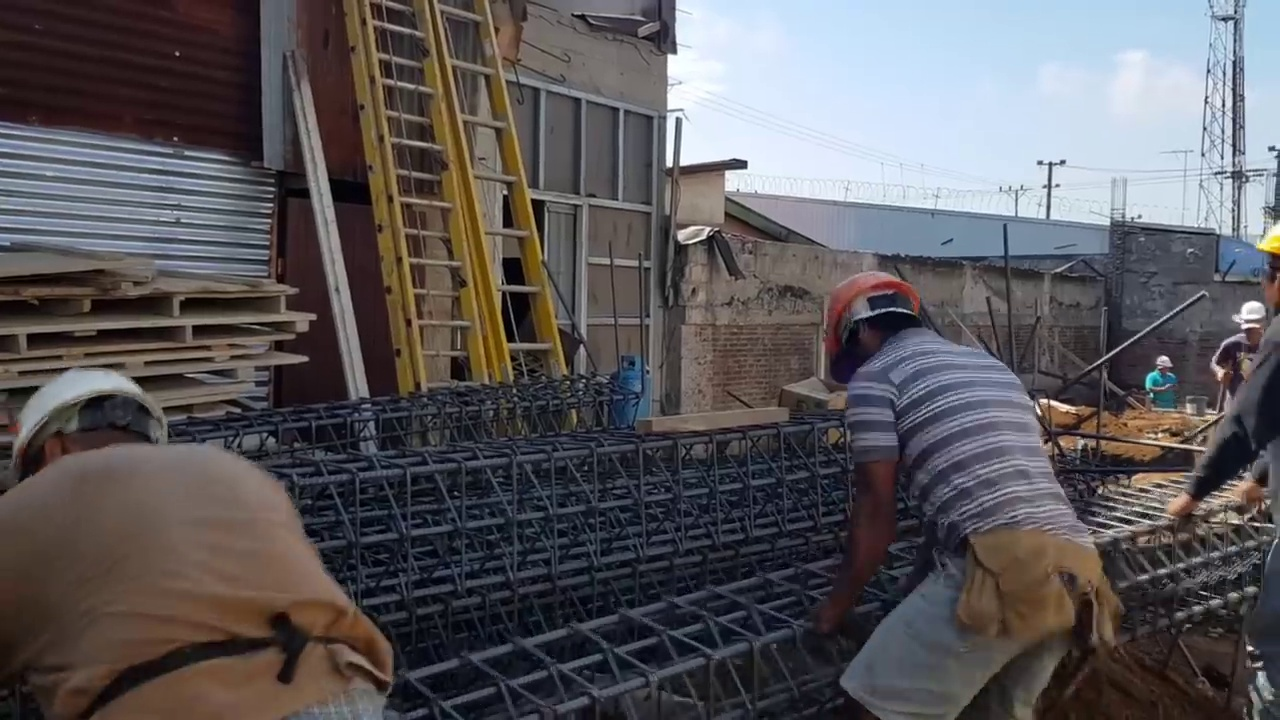helmet: (825, 275, 923, 367), (1256, 219, 1280, 254), (1240, 301, 1268, 322), (1155, 356, 1174, 368)
helmet-on: (0, 379, 160, 470), (824, 262, 934, 382), (1256, 215, 1280, 329), (1234, 299, 1271, 349), (1154, 354, 1175, 376)
person: (791, 248, 1133, 709), (0, 376, 443, 719), (1169, 200, 1280, 663), (1208, 297, 1272, 416), (1145, 356, 1180, 410)
